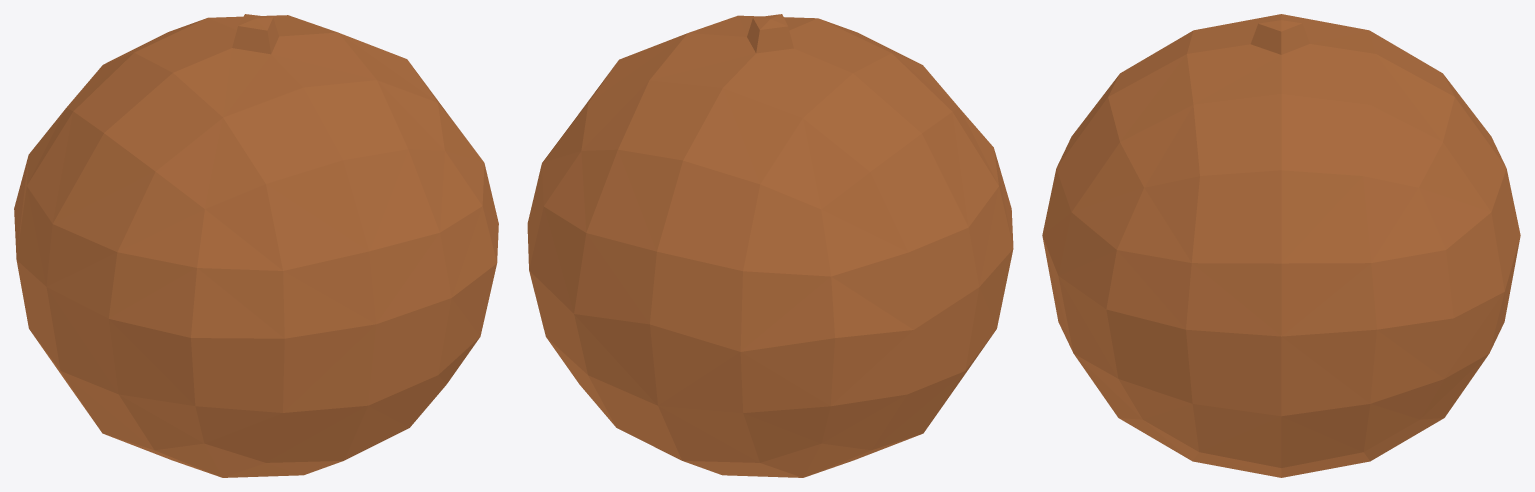
File: Orange.glb
3 views of the same model, side by side, from view 1: azimuth 30°, elevation 25°; view 2: azimuth 150°, elevation 25°; view 3: azimuth 270°, elevation 25° (orthographic).
Parts seen in each view (by area): view 1: Orange; view 2: Orange; view 3: Orange.
Boxes of the visible parts, bbox=[...] form: Orange: bbox=[14, 14, 498, 477]; Orange: bbox=[527, 14, 1013, 477]; Orange: bbox=[1042, 14, 1520, 477].
Size of the model in its own units: 0.7449 by 0.7425 by 0.7449.
